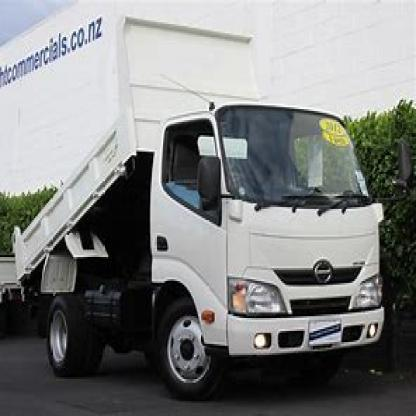dump_truck: (13, 9, 392, 386)
